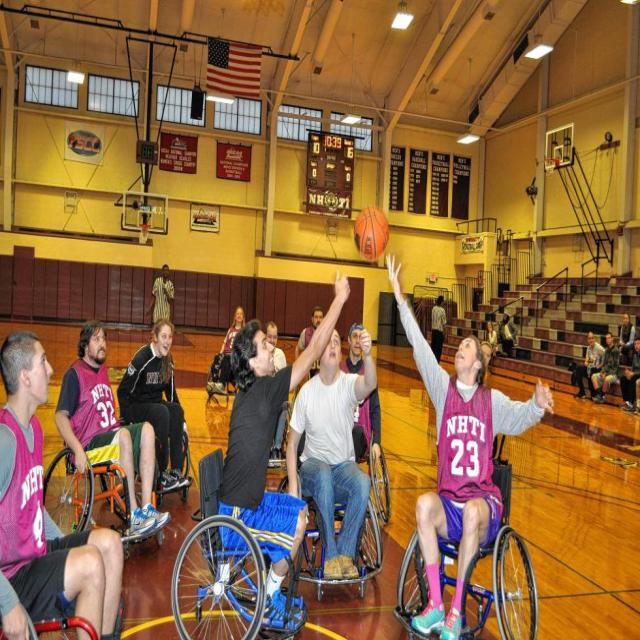body: (381, 250, 556, 639), (214, 265, 354, 630), (53, 316, 174, 546), (283, 315, 379, 582), (52, 318, 136, 544), (112, 314, 196, 498), (338, 320, 383, 466), (204, 305, 247, 394), (263, 320, 289, 460), (292, 303, 326, 410), (573, 330, 607, 402), (589, 330, 620, 403), (144, 264, 176, 328), (618, 335, 640, 414), (429, 294, 448, 365), (618, 310, 636, 368), (500, 309, 519, 357), (480, 339, 494, 386), (478, 340, 493, 383), (486, 318, 498, 369)
